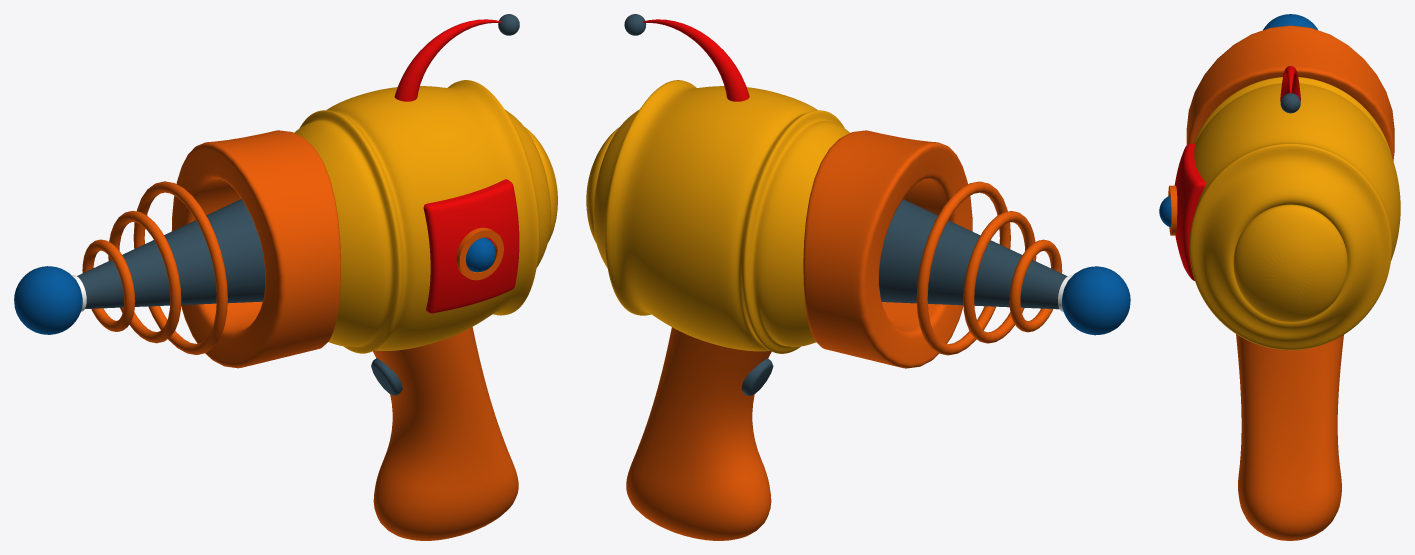
Rendered from space_gun.glb.
3 renders of one model, left to right at view 1: azimuth 30°, elevation 25°; view 2: azimuth 150°, elevation 25°; view 3: azimuth 270°, elevation 25°, orthographic. The views are drawn at different scales.
Parts seen in each view (by area): view 1: Sphere002, Tube002, Capsule001, Cone001, ChamferBox001, Sphere001, Torus003, Torus002, Torus001, Cone002, Tube003, Sphere003 (+1 smaller); view 2: Sphere002, Tube002, Capsule001, Cone001, Sphere001, Torus003, Torus002, Torus001, Cone002, ChamferCyl001; view 3: Sphere002, Capsule001, Tube002, ChamferBox001, Sphere001, Cone002, Tube003, Sphere004, Sphere003.
Boxes of the visible parts, x1,y1,x2,y2 form: Sphere002: (294,80,557,353); Tube002: (171,130,340,368); Capsule001: (373,327,518,540); Cone001: (77,199,265,308); ChamferBox001: (423,179,519,313); Sphere001: (14,266,82,334); Torus003: (133,181,227,354); Torus002: (108,211,181,343); Torus001: (82,239,135,331); Cone002: (394,19,501,101); Tube003: (456,227,503,280); Sphere003: (466,237,495,272); Sphere002: (586,80,849,353); Tube002: (803,130,972,368); Capsule001: (626,327,771,540); Cone001: (879,199,1067,309); Sphere001: (1062,266,1130,335); Torus003: (916,181,1010,355); Torus002: (963,211,1036,343); Torus001: (1009,239,1062,332); Cone002: (643,19,749,101); ChamferCyl001: (741,358,773,395); Sphere002: (1189,77,1400,350); Capsule001: (1236,334,1343,540); Tube002: (1186,25,1394,161); ChamferBox001: (1174,143,1205,280); Sphere001: (1263,14,1317,30); Cone002: (1280,66,1300,101); Tube003: (1168,185,1177,235); Sphere004: (1280,93,1300,113); Sphere003: (1159,195,1171,227).
Bounding box in the file's own units: 0.3772 × 0.3431 × 0.1602.
